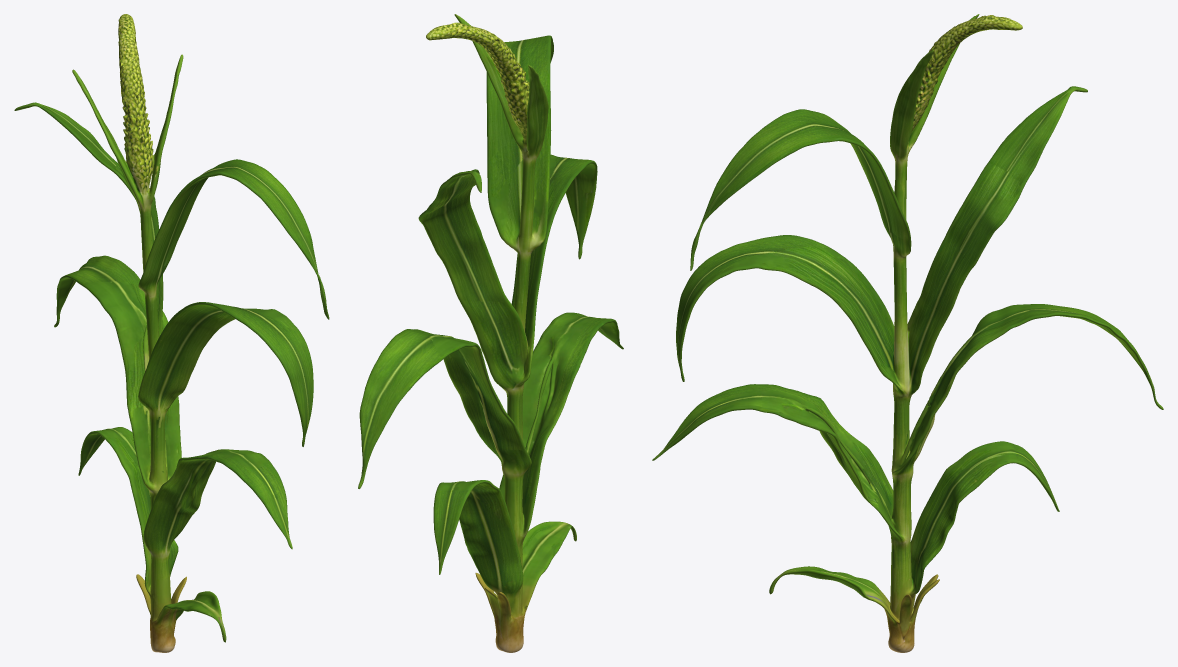
The model's file is 矮小麦_未成熟_1.glb.
The picture shows the model from 3 angles, left to right: view 1: azimuth 30°, elevation 25°; view 2: azimuth 150°, elevation 25°; view 3: azimuth 270°, elevation 25°; orthographic projection. The views are drawn at different scales.
Visible parts, largest first — view 1: tripo_node_415351f8-823c-455f-9926-b5a1f2ada00f; view 2: tripo_node_415351f8-823c-455f-9926-b5a1f2ada00f; view 3: tripo_node_415351f8-823c-455f-9926-b5a1f2ada00f.
Part boxes in pixels (x1,y1,x2,y2): tripo_node_415351f8-823c-455f-9926-b5a1f2ada00f: (14, 14, 329, 652); tripo_node_415351f8-823c-455f-9926-b5a1f2ada00f: (358, 14, 623, 652); tripo_node_415351f8-823c-455f-9926-b5a1f2ada00f: (652, 14, 1163, 652).
Size of the model in its own units: 0.2248 by 0.9792 by 0.7123.
1 material, 1 textured.
